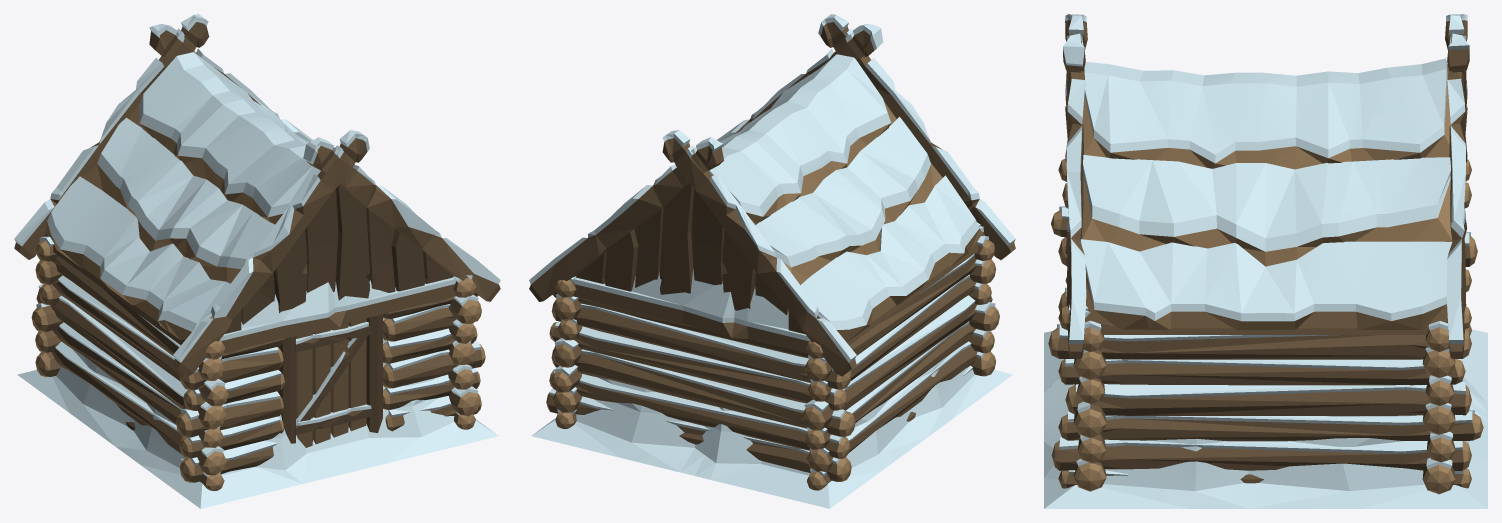
File: Casa01.glb
The picture shows the model from 3 angles, left to right: view 1: azimuth 30°, elevation 25°; view 2: azimuth 150°, elevation 25°; view 3: azimuth 270°, elevation 25°; orthographic projection. The views are drawn at different scales.
Parts seen in each view (by area): view 1: SM_Bld_Roof_01_Snow, SM_Bld_Base_Door_01_Snow; view 2: SM_Bld_Roof_01_Snow, SM_Bld_Base_Door_01_Snow; view 3: SM_Bld_Roof_01_Snow, SM_Bld_Base_Door_01_Snow.
Part boxes in pixels (x1,y1,x2,y2): SM_Bld_Roof_01_Snow: (14,14,500,376); SM_Bld_Base_Door_01_Snow: (17,236,498,508); SM_Bld_Roof_01_Snow: (529,14,1015,376); SM_Bld_Base_Door_01_Snow: (531,222,1012,508); SM_Bld_Roof_01_Snow: (1063,14,1469,358); SM_Bld_Base_Door_01_Snow: (1044,158,1487,508).
Size of the model in its own units: 5.28 by 5.11 by 5.18.
Materials: 2 (2 with a texture image).
